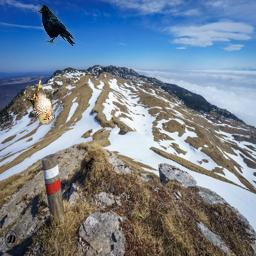Crow: (37, 5, 75, 46)
Sparrow: (25, 78, 55, 125)
